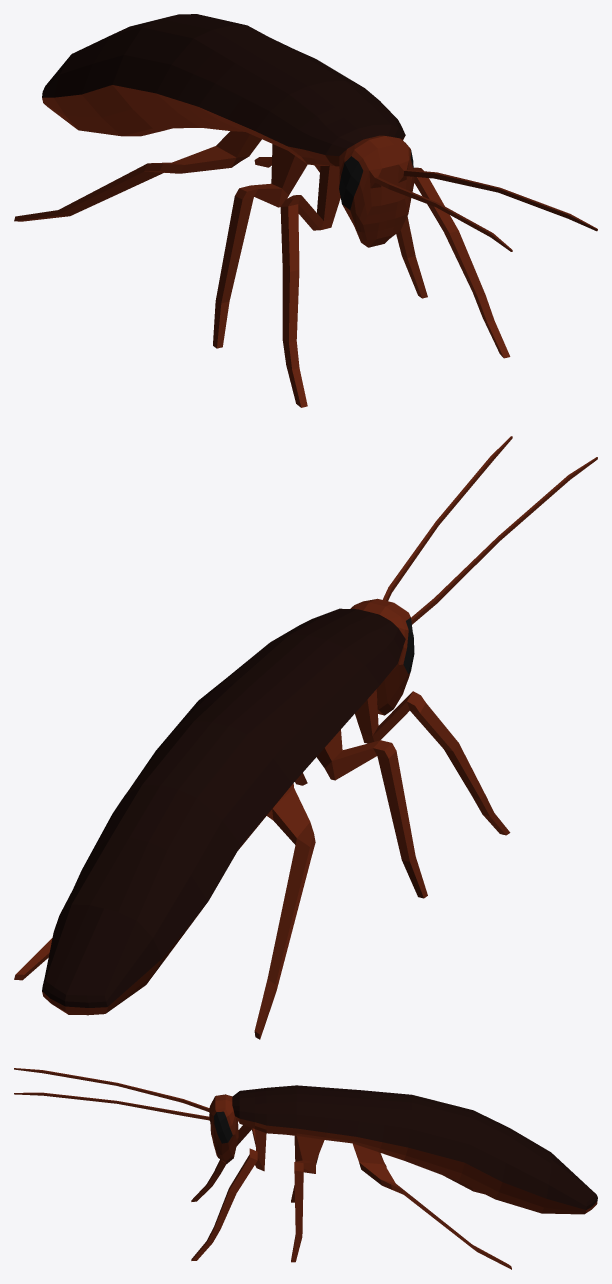
File: roach.obj
3 views of the same model, one above another, from view 1: azimuth 30°, elevation 25°; view 2: azimuth 150°, elevation 25°; view 3: azimuth 270°, elevation 25° (orthographic). The views are drawn at different scales.
Parts seen in each view (by area): view 1: Plane; view 2: Plane; view 3: Plane.
Boxes of the visible parts, bbox=[...] form: Plane: bbox=[14, 14, 597, 407]; Plane: bbox=[14, 436, 597, 1039]; Plane: bbox=[14, 1068, 597, 1269].
Size of the model in its own units: 1.19 by 1.19 by 4.11.
